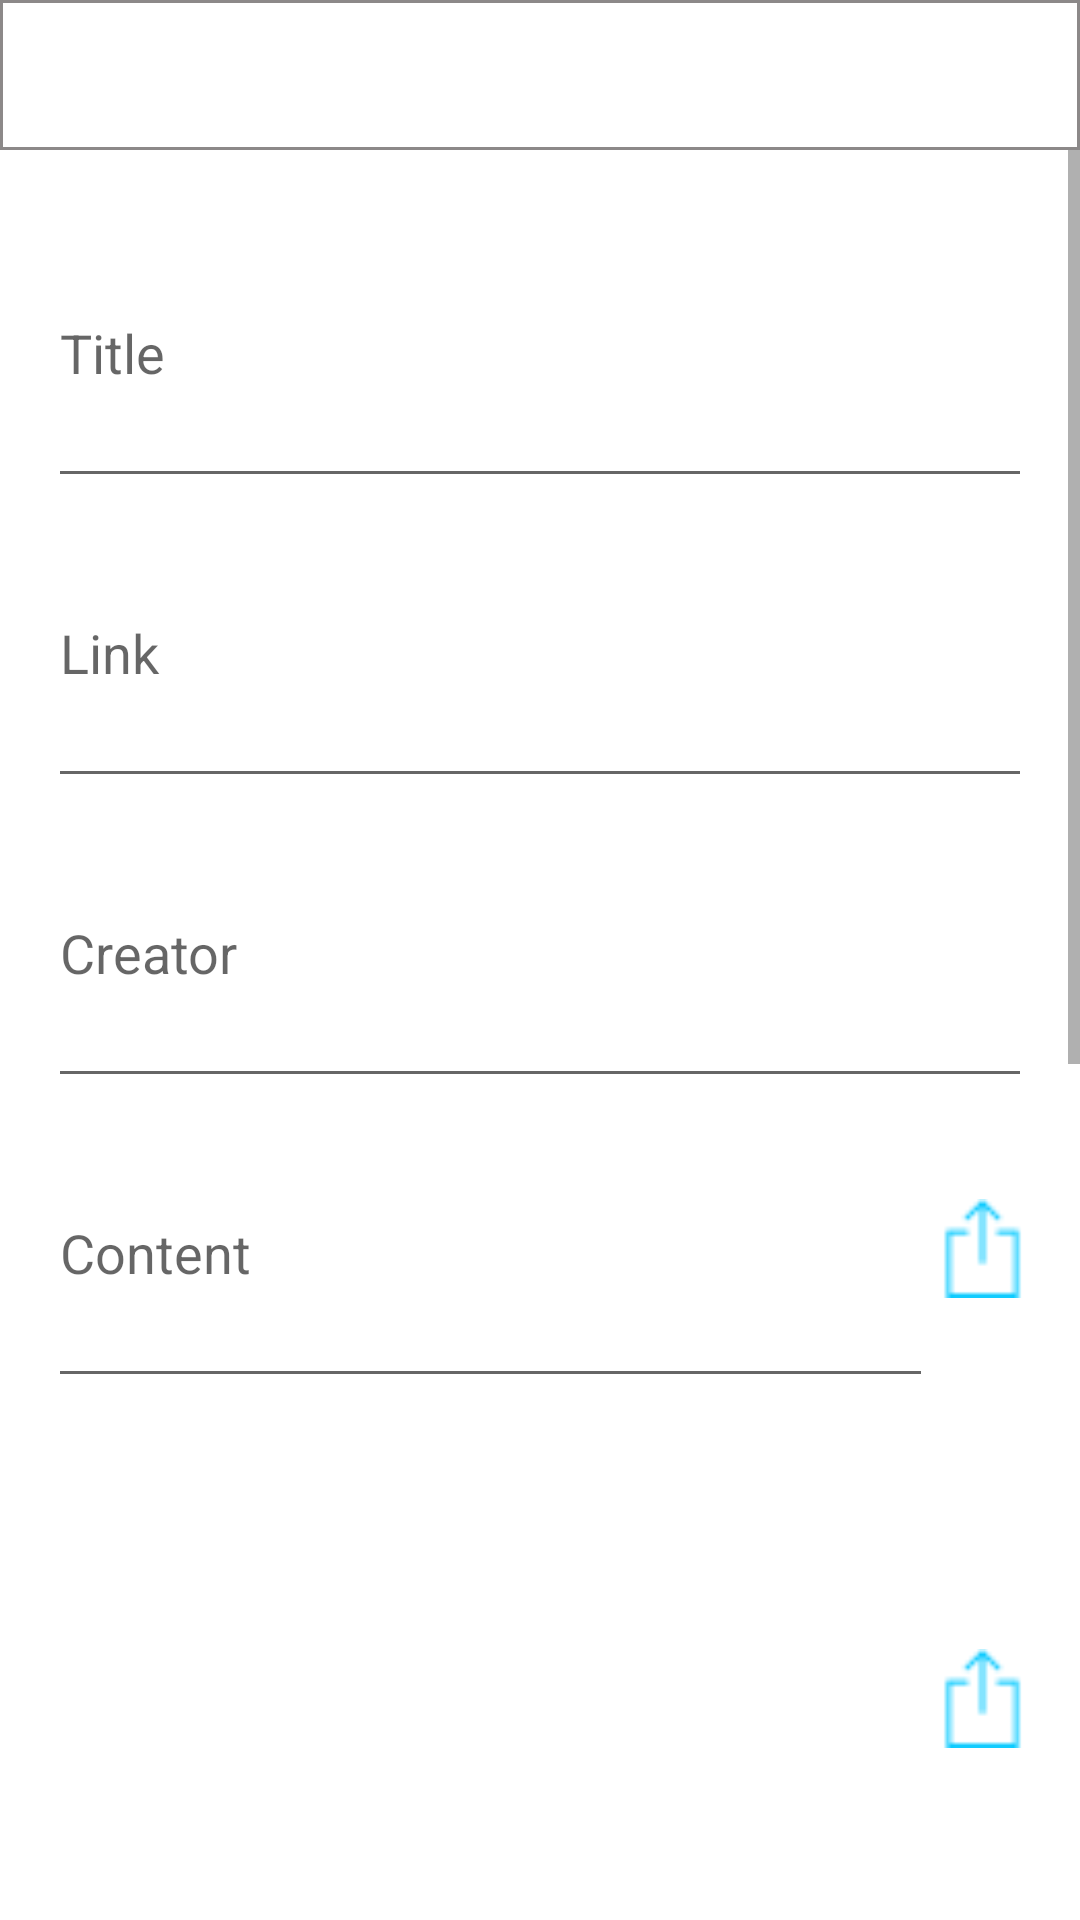

Where icons sit on this 1080*1920 app screen, as (x1, y1, x2, y2):
icupload: (944, 1199, 1021, 1298), (944, 1649, 1021, 1748)
